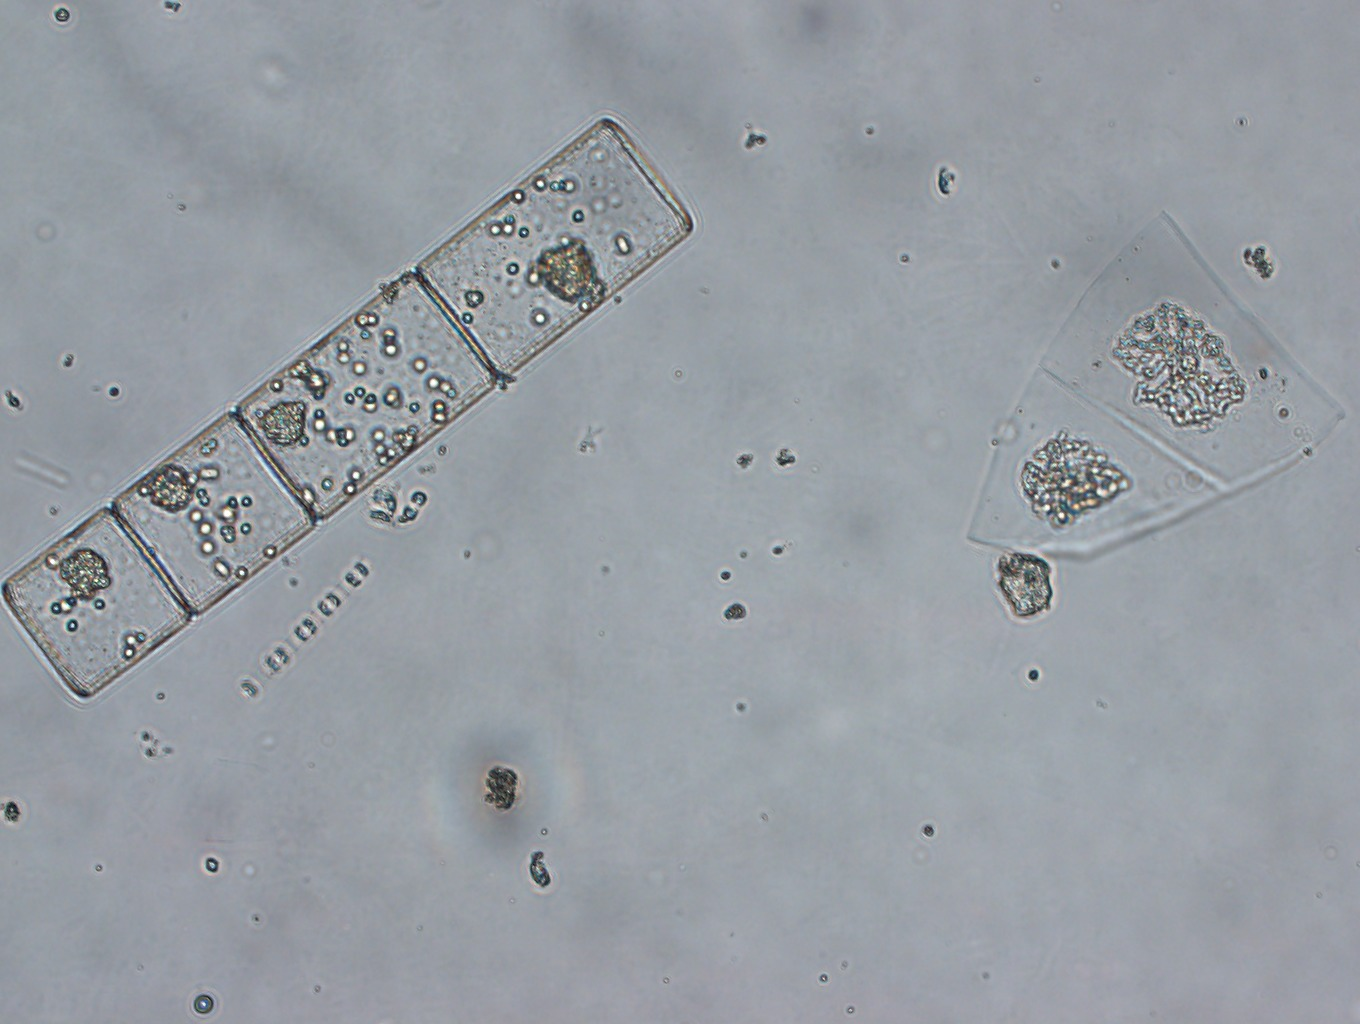guinardia flaccida: (1, 114, 705, 710)
helicotheca: (963, 203, 1349, 570)
